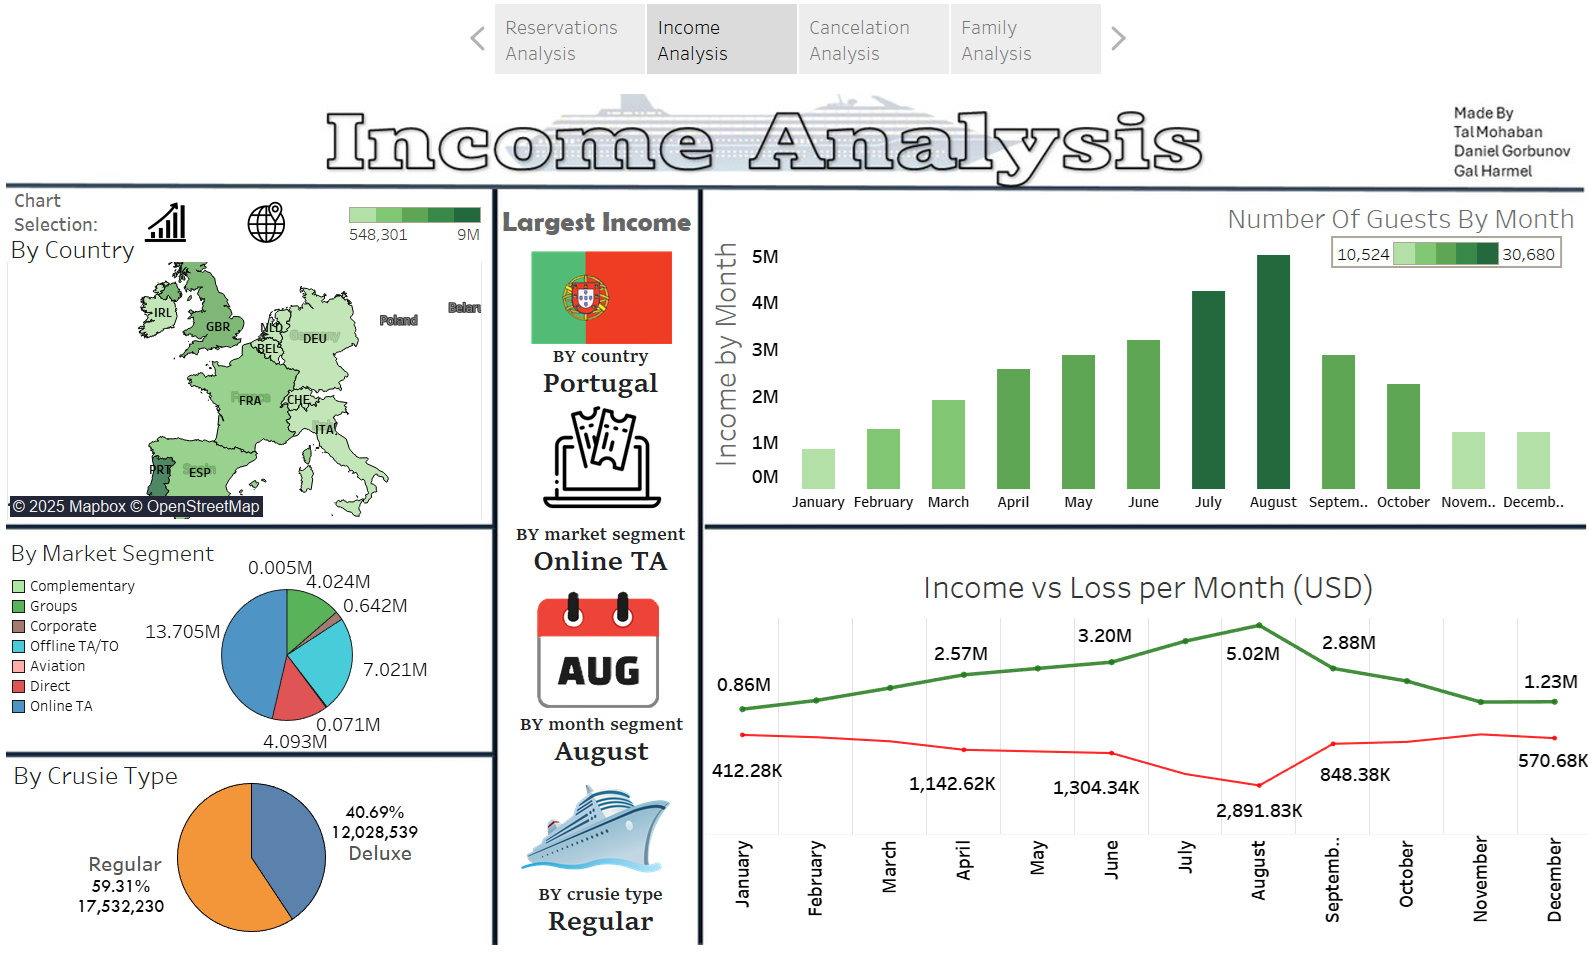

The dashboard page shown, as its layout file describes it:
{"tool":"tableau","page":{"name":"Income Dashboard","canvas":[1580,850],"ordinal":3},"visuals":[{"type":"image","box":[0,0,1584,851]},{"type":"image","param":"C:/Users/talmo/OneDrive/Desktop/תיקון של טל.jpg","box":[8,8,1404,417]},{"type":"image","box":[1412,8,160,52]},{"type":"text","box":[476,71,229,113]},{"type":"text","box":[4,93,123,50]},{"type":"worksheet","title":"Bar Button","mark":"Shape","cols":["buttons"],"box":[69,95,380,83]},{"type":"worksheet","title":"Map Button","mark":"Shape","cols":["buttons"],"box":[211,96,99,92]},{"type":"text","box":[699,101,62,321]},{"type":"image","box":[340,110,140,44]},{"type":"legend","title":"5","param":"[federated.1ogpqxy1h1m0yn12gcw3o0dju587 (copy)].[sum:Calculation_289356295253229","box":[1325,142,231,32]},{"type":"worksheet","title":"5","mark":"Automatic","rows":["Calculation_761952780709421057"],"cols":["M"],"box":[745,149,815,270]},{"type":"image","box":[525,157,201,93]},{"type":"worksheet","title":"1A","mark":"Automatic","rows":["Calculation_761952780709421057"],"cols":["country"],"box":[6,158,468,269]},{"type":"worksheet","title":"1B","mark":"Automatic","box":[1,168,475,258]},{"type":"text","box":[494,224,201,88]},{"type":"image","param":"C:/Users/talmo/OneDrive/Desktop/לימודים/ניתוח נתונים/4084771-200.png","box":[513,290,146,149]},{"type":"image","box":[529,296,167,134]},{"type":"text","box":[494,402,201,88]},{"type":"image","param":"C:/Users/talmo/OneDrive/Desktop/רקע.png","box":[8,425,1244,208.5]},{"type":"image","param":"C:/Users/talmo/OneDrive/Desktop/לימודים/ניתוח נתונים/033367-2x3-portugal-flag-im","box":[1252,425,160,417]},{"type":"worksheet","title":"2","mark":"Pie","box":[64,443,434,236]},{"type":"worksheet","title":"אופציה נוספת ל3","mark":"Line","rows":["Calculation_761952780709421057","Calculation_761952780715208707"],"cols":["M"],"box":[699,467,886,363]},{"type":"legend","title":"2","param":"[federated.1ogpqxy1h1m0yn12gcw3o0dju587 (copy)].[none:market:nk]","box":[2,482,143,152]},{"type":"image","box":[531,497,134,117]},{"type":"text","box":[495,592,201,88]},{"type":"image","param":"C:/Users/talmo/OneDrive/Desktop/ניסיוו רקע 4.png","box":[8,633.5,1244,208.5]},{"type":"image","box":[515,660,160,149]},{"type":"text","box":[338,733,75,50]},{"type":"text","box":[78,744,102,50]},{"type":"text","box":[494,762,201,88]}]}

Visuals, with their boxes on the page's 1580x850 design canvas (x1, y1, x2, y2). These are canvas units, not pixel positions in the 1588x963 screenshot, which may show the page scaled, cropped or inside an application window:
image: [0,0,1584,851]
image: [8,8,1412,425]
image: [1412,8,1572,60]
text: [476,71,705,184]
text: [4,93,127,143]
"Bar Button" worksheet (Shape marks): [69,95,449,178]
"Map Button" worksheet (Shape marks): [211,96,310,188]
text: [699,101,761,422]
image: [340,110,480,154]
"5" legend: [1325,142,1556,174]
"5" worksheet: [745,149,1560,419]
image: [525,157,726,250]
"1A" worksheet: [6,158,474,427]
"1B" worksheet: [1,168,476,426]
text: [494,224,695,312]
image: [513,290,659,439]
image: [529,296,696,430]
text: [494,402,695,490]
image: [8,425,1252,634]
image: [1252,425,1412,842]
"2" worksheet (Pie marks): [64,443,498,679]
"אופציה נוספת ל3" worksheet (Line marks): [699,467,1585,830]
"2" legend: [2,482,145,634]
image: [531,497,665,614]
text: [495,592,696,680]
image: [8,634,1252,842]
image: [515,660,675,809]
text: [338,733,413,783]
text: [78,744,180,794]
text: [494,762,695,850]
